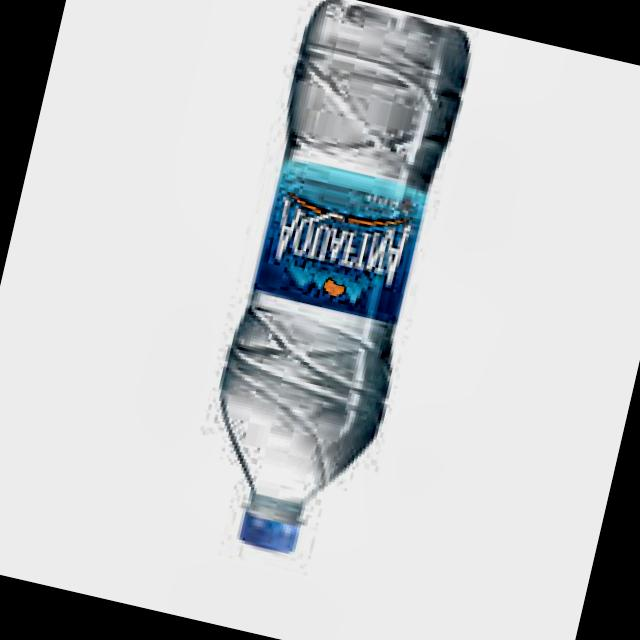plastic bottle: (220, 0, 468, 551)
